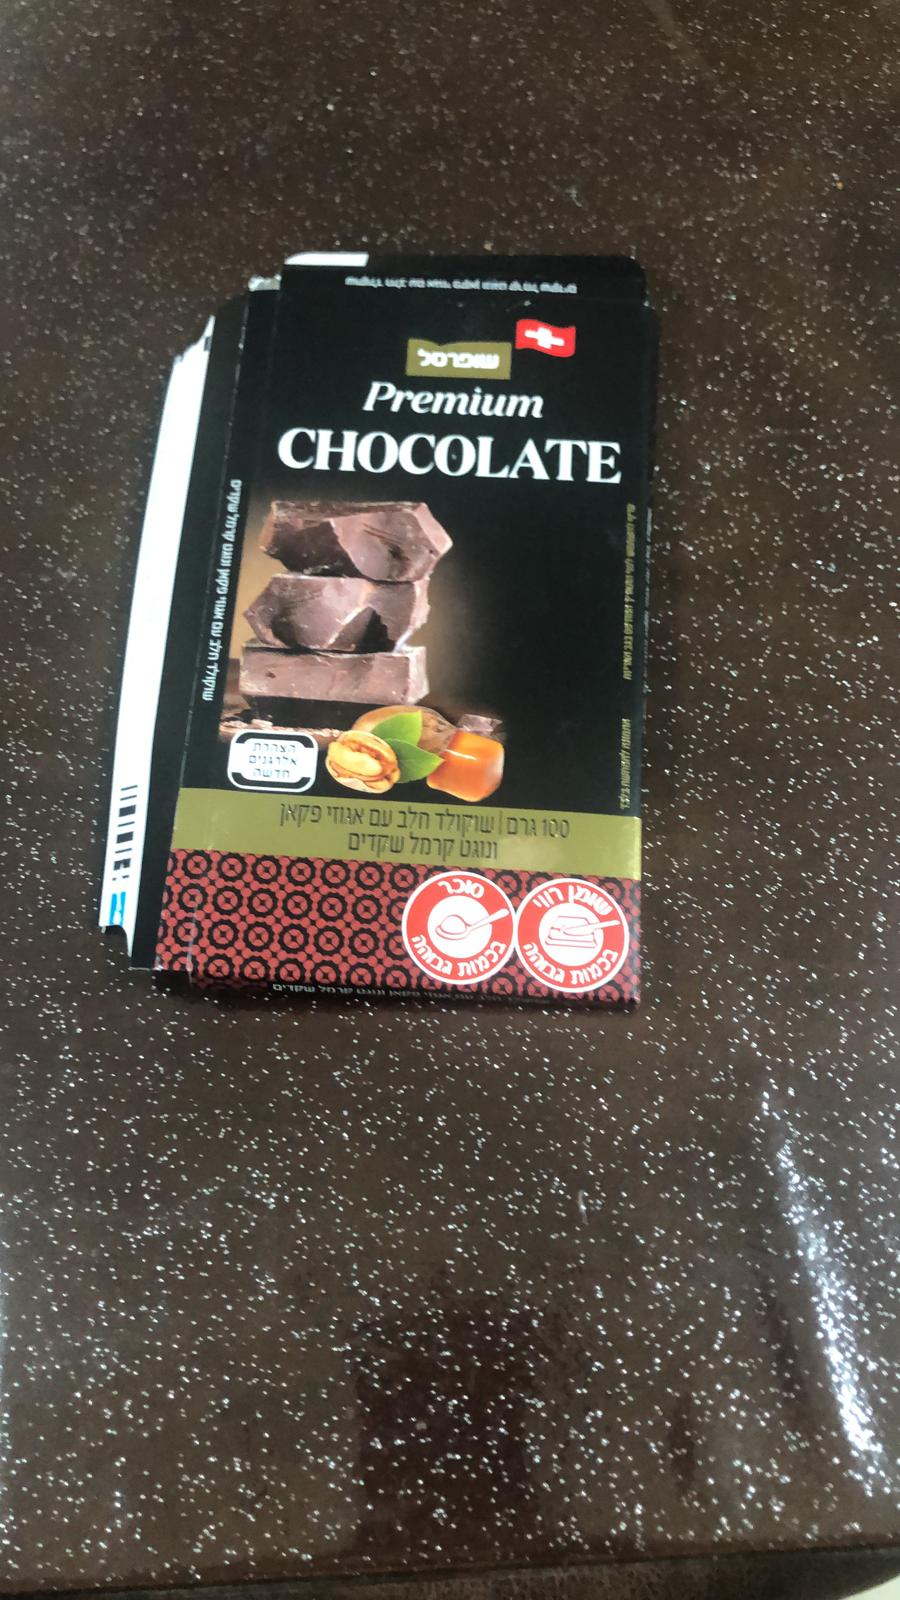fat: (514, 878, 627, 993)
sugar: (399, 871, 516, 988)
